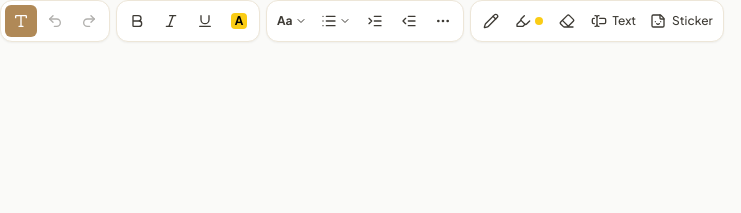
Test: NotesToolbar formatting menus › picks a heading from the heading menu, then closes it
Click the button with aria-label "Heading size" at (292, 21), box [271,5,312,37]
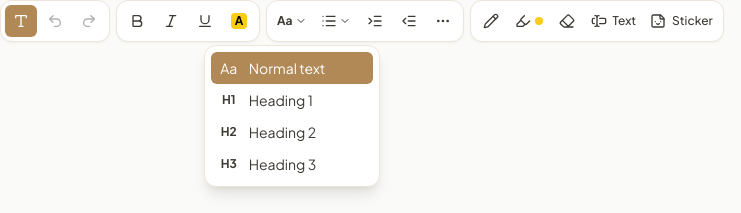
Click the menu item "H2 Heading 2" at (292, 132), box [211,116,373,148]
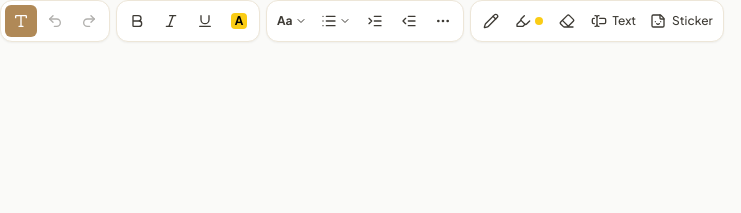
Check: the menu is gone
